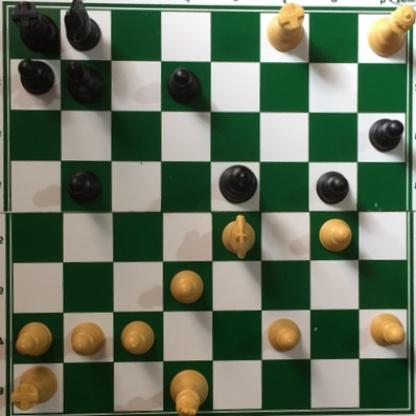black-bishop: (66, 58, 110, 104)
black-king: (217, 162, 259, 207)
black-knight: (61, 1, 104, 54)
black-pawn: (17, 56, 56, 95), (167, 65, 203, 106), (315, 169, 353, 206), (368, 117, 407, 153), (68, 170, 104, 205)
black-rook: (10, 1, 62, 57)
white-king: (170, 366, 214, 416)
white-knight: (220, 212, 259, 262)
white-pawn: (264, 313, 304, 355), (117, 319, 159, 358), (316, 213, 355, 254), (15, 317, 58, 352), (69, 319, 107, 358), (368, 309, 408, 346), (174, 267, 209, 306)
white-queen: (367, 1, 415, 57)
white-rook: (10, 362, 62, 411), (268, 1, 311, 54)
